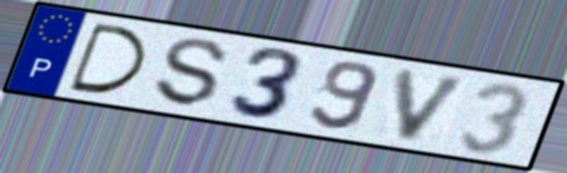3: (456, 79, 536, 159), (227, 46, 309, 122)
9: (307, 59, 380, 134)
D: (65, 20, 149, 97)
S: (152, 36, 231, 110)
V: (393, 66, 475, 145)
